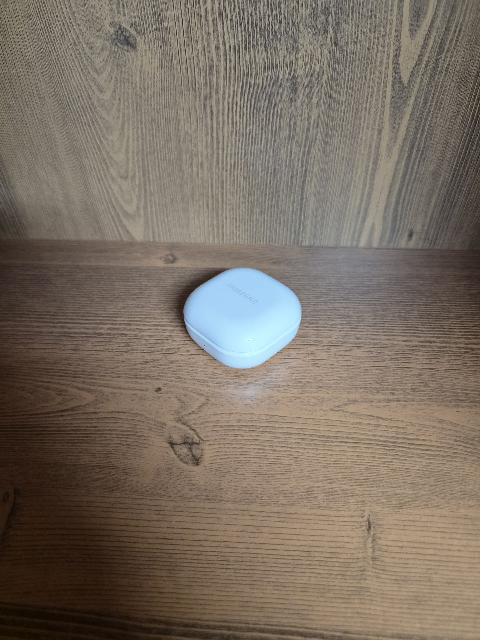earphone_case: (183, 268, 301, 369)
